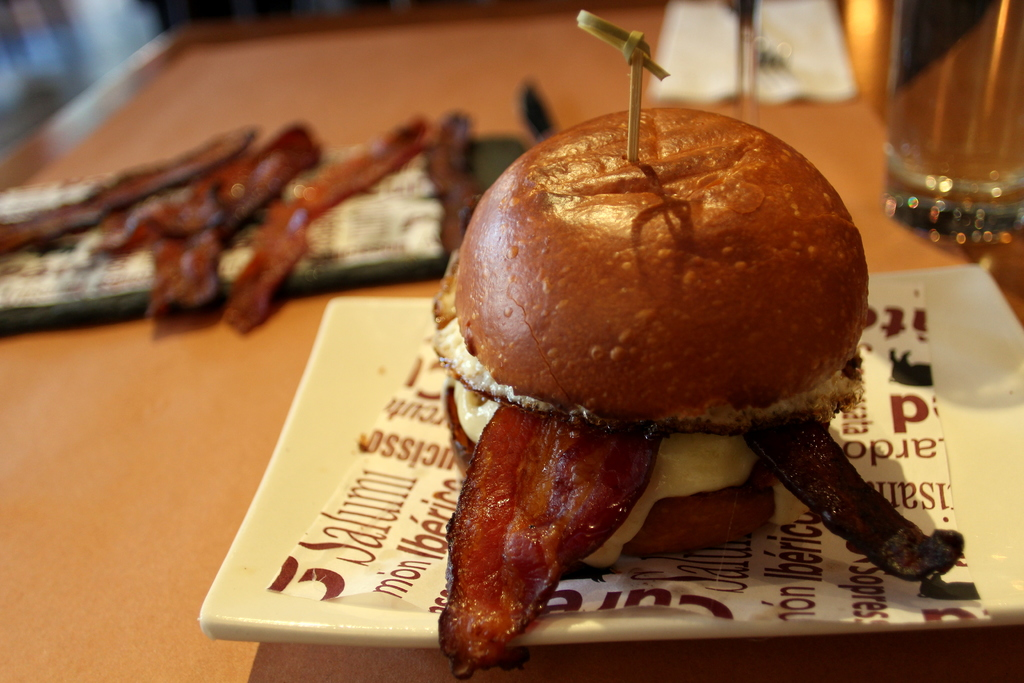Hamburger: (428, 108, 962, 682)
